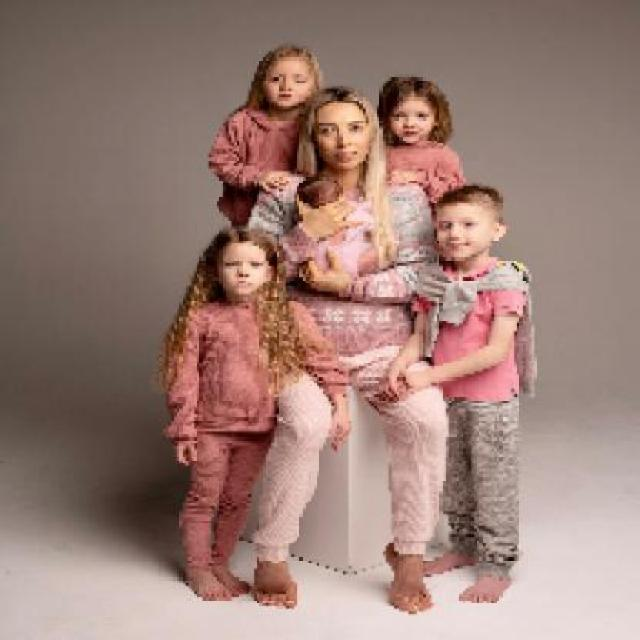child: (298, 183, 528, 603), (161, 228, 356, 598), (207, 41, 324, 232), (375, 72, 468, 215)
